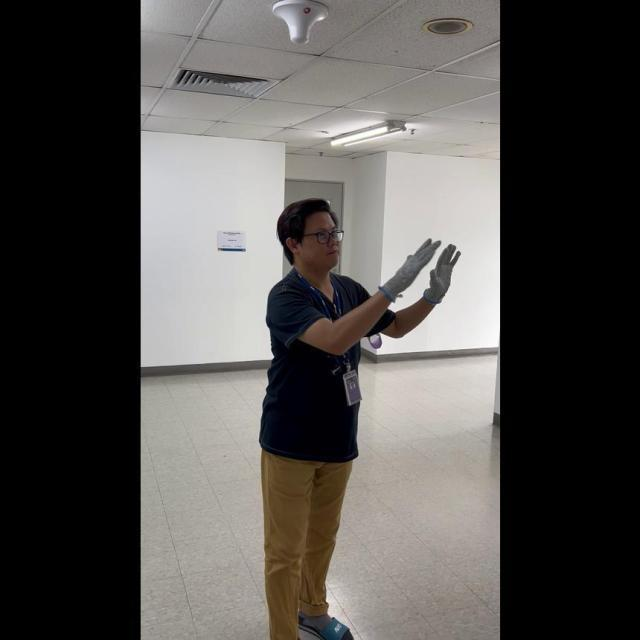gloved_hand: (376, 234, 444, 302), (421, 240, 458, 304)
